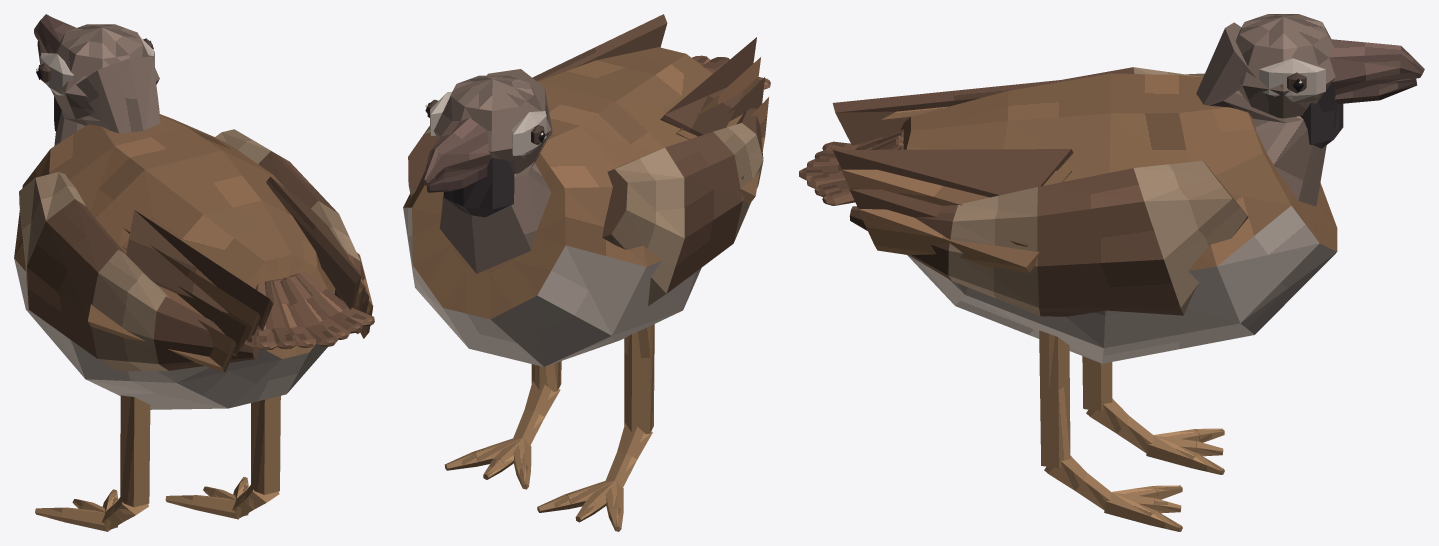
Rendered from mon_sparrow.glb.
3 renders of one model, left to right at view 1: azimuth 30°, elevation 25°; view 2: azimuth 150°, elevation 25°; view 3: azimuth 270°, elevation 25°, orthographic. The views are drawn at different scales.
Parts seen in each view (by area): view 1: closed_body; view 2: closed_body; view 3: closed_body.
Part boxes in pixels (bbox=[...]): closed_body: bbox=[14, 14, 374, 531]; closed_body: bbox=[403, 14, 770, 531]; closed_body: bbox=[799, 14, 1424, 531].
Size of the model in its own units: 0.0523 by 0.0816 by 0.0988.
1 material, 1 textured.
